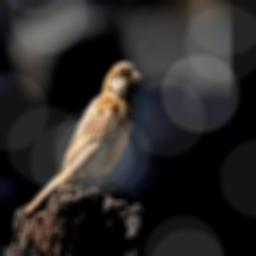Sparrow: (23, 60, 143, 216)
